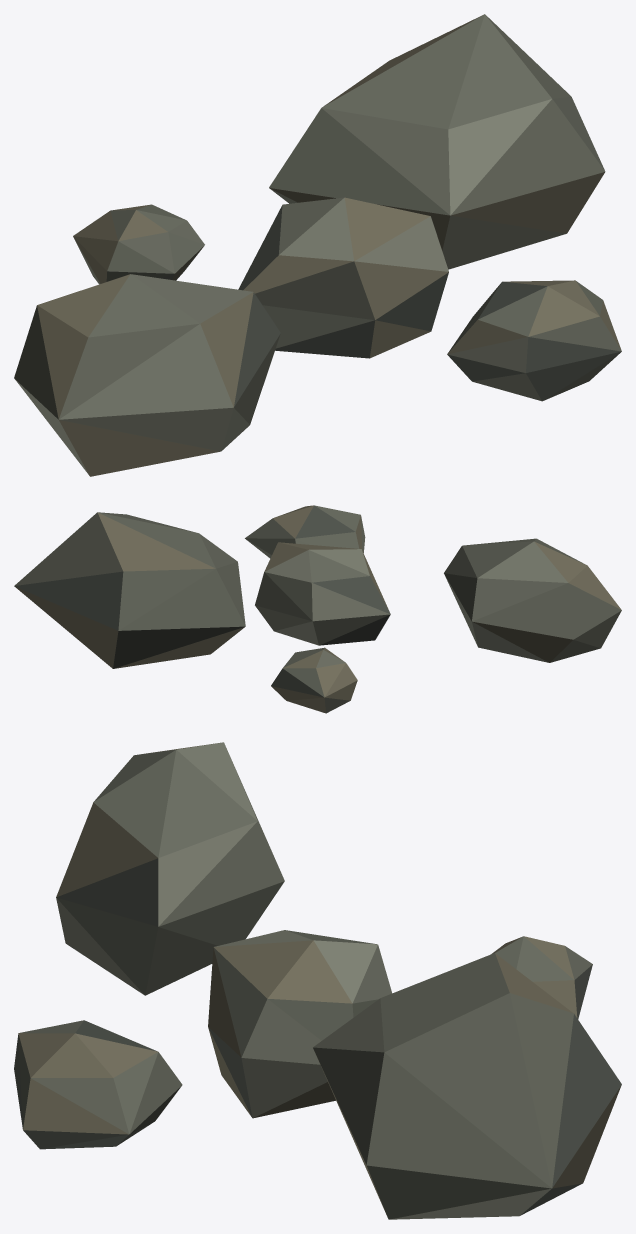
The model's file is Stone_Scatter.obj.
The picture shows the model from 3 angles, top to bottom: view 1: azimuth 30°, elevation 25°; view 2: azimuth 150°, elevation 25°; view 3: azimuth 270°, elevation 25°; orthographic projection. The views are drawn at different scales.
Visible parts, largest first — view 1: Stone_Scatter; view 2: Stone_Scatter; view 3: Stone_Scatter.
Part boxes in pixels (x1,y1,x2,y2): Stone_Scatter: [14, 14, 621, 476]; Stone_Scatter: [14, 505, 621, 713]; Stone_Scatter: [14, 742, 621, 1219].
Bounding box in the file's own units: 1.27 × 0.3357 × 0.8372.
1 material, 1 textured.
